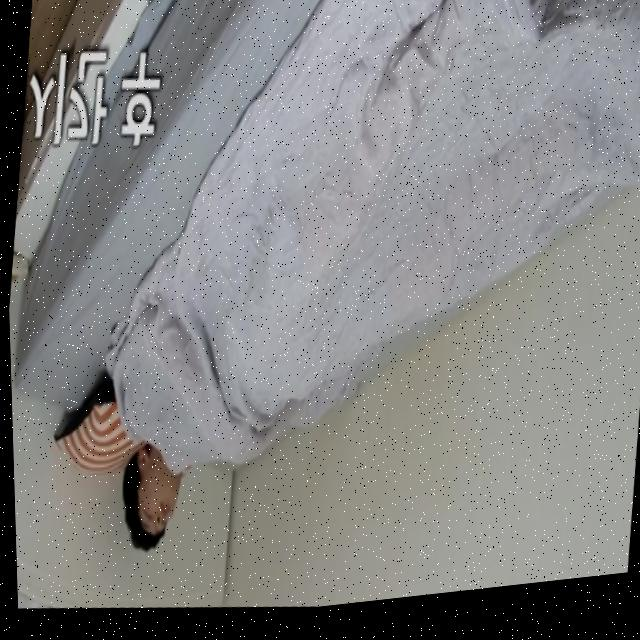sleeping-person: (70, 0, 640, 631)
